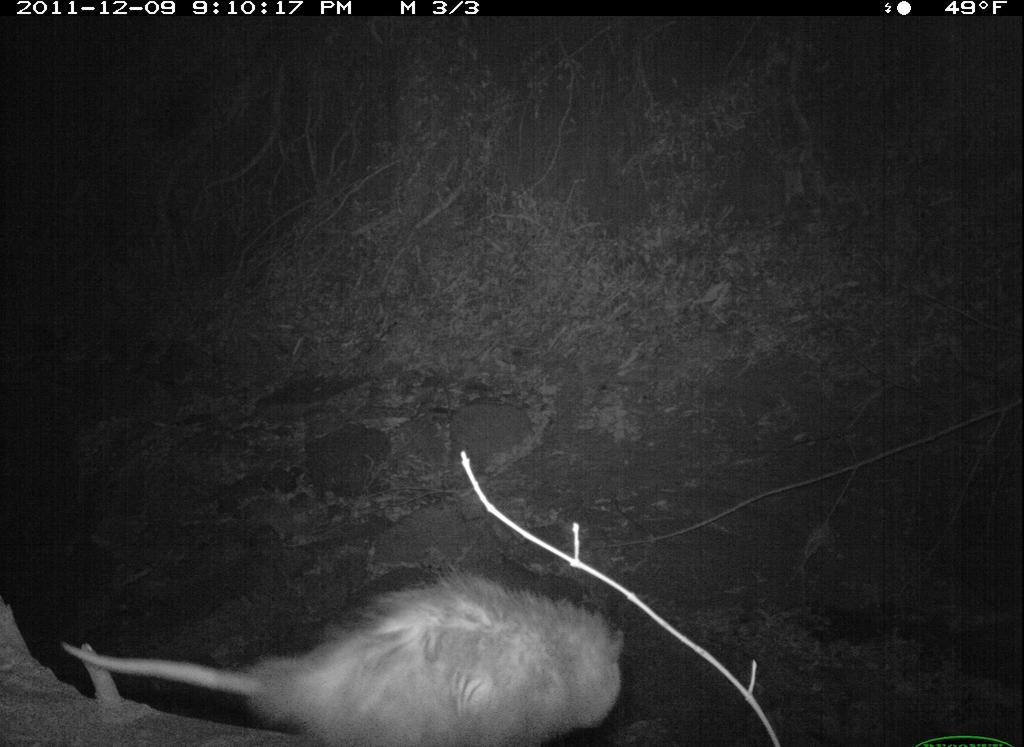opossum: (52, 564, 698, 747)
